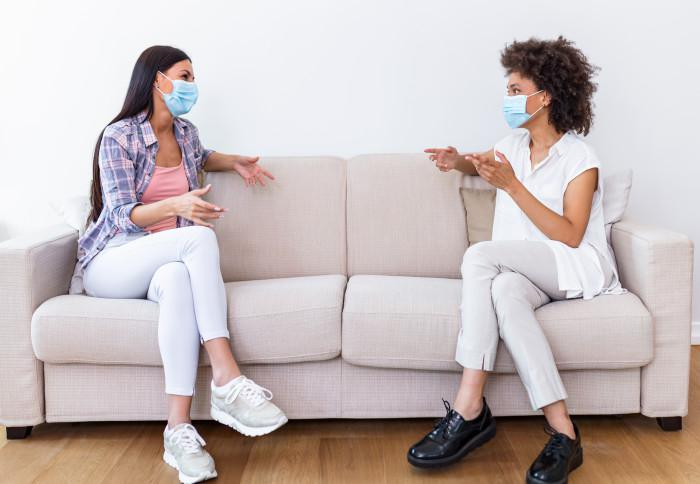OK: (156, 59, 200, 119), (503, 77, 547, 130)
